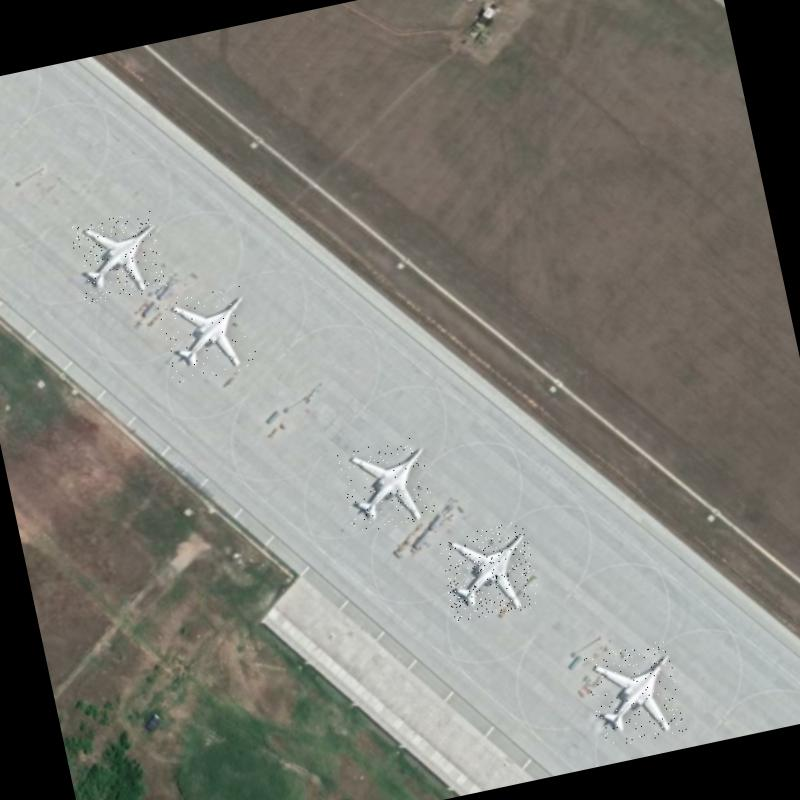A6: (584, 640, 689, 750), (436, 519, 542, 624), (155, 283, 260, 385), (336, 436, 438, 536), (69, 210, 168, 306)
